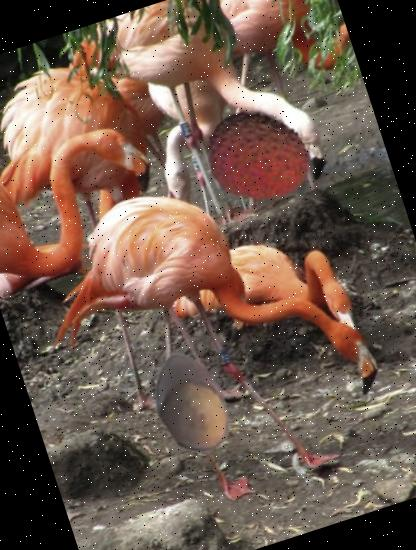Hazelnut: (126, 335, 260, 469)
Lychee: (187, 89, 326, 228)
